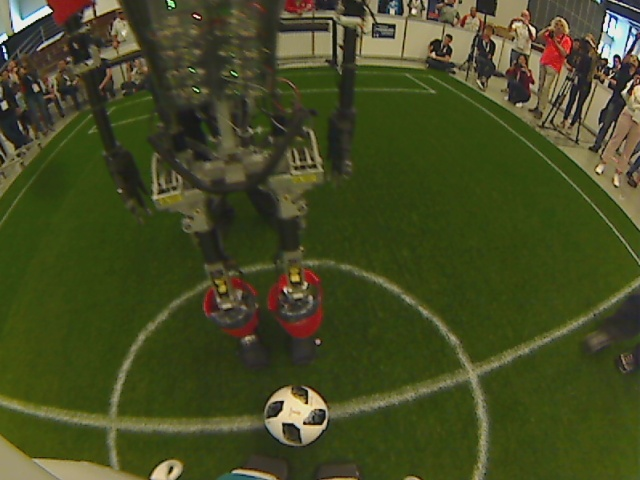ball: (259, 381, 333, 451)
